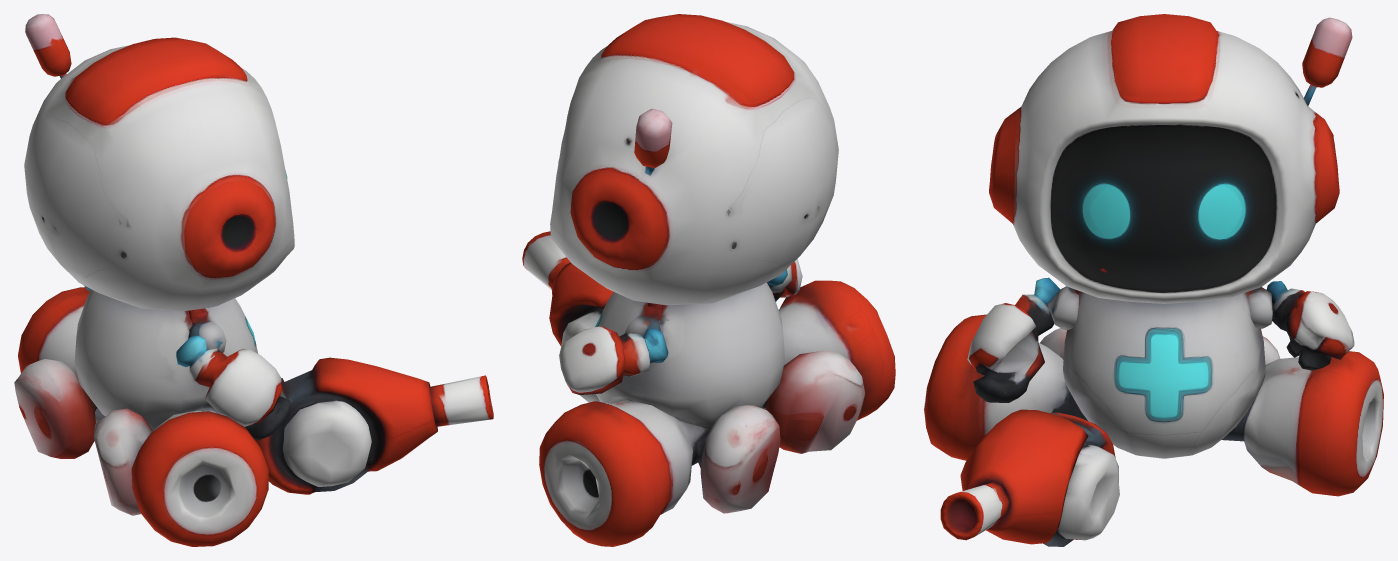
The picture shows the model from 3 angles, left to right: view 1: azimuth 30°, elevation 25°; view 2: azimuth 150°, elevation 25°; view 3: azimuth 270°, elevation 25°; orthographic projection. The views are drawn at different scales.
Parts seen in each view (by area): view 1: tripo_node_b78742e7-42ac-44cb-a2f5-09b08bb179b8; view 2: tripo_node_b78742e7-42ac-44cb-a2f5-09b08bb179b8; view 3: tripo_node_b78742e7-42ac-44cb-a2f5-09b08bb179b8.
Part boxes in pixels (x1,y1,x2,y2): tripo_node_b78742e7-42ac-44cb-a2f5-09b08bb179b8: (14,14,493,546); tripo_node_b78742e7-42ac-44cb-a2f5-09b08bb179b8: (522,14,895,546); tripo_node_b78742e7-42ac-44cb-a2f5-09b08bb179b8: (924,14,1383,546).
Size of the model in its own units: 89.26 by 99.8 by 91.21.
Materials: 1 (1 with a texture image).
